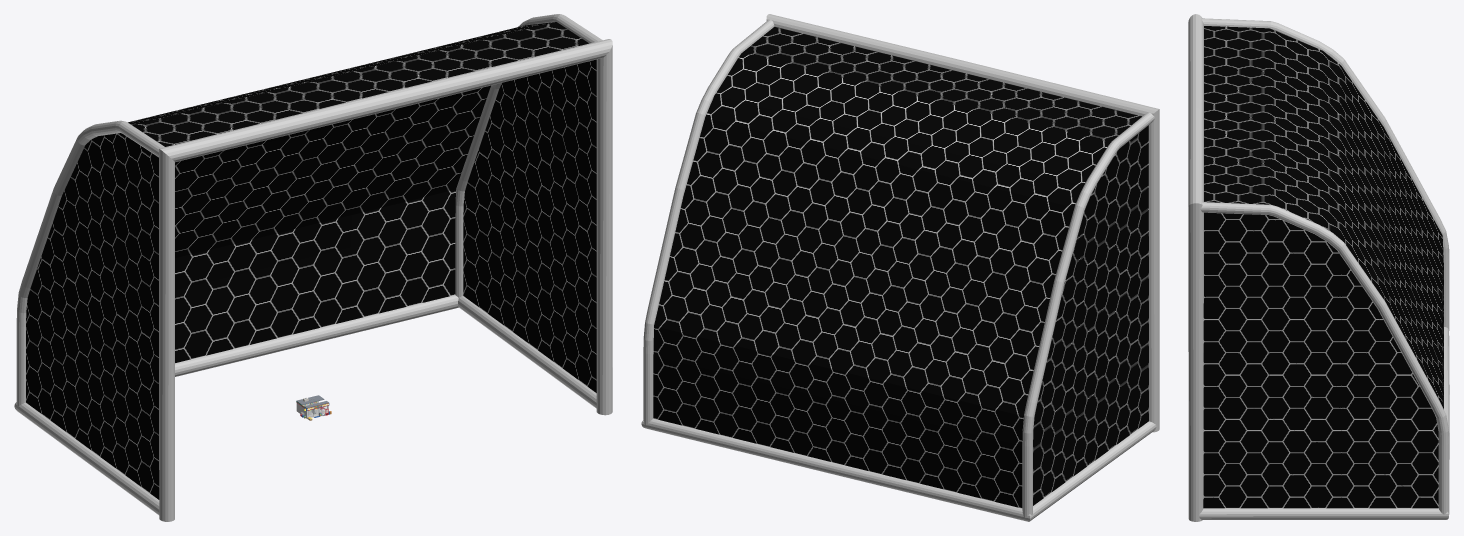
3 views of the same model, side by side, from view 1: azimuth 30°, elevation 25°; view 2: azimuth 150°, elevation 25°; view 3: azimuth 270°, elevation 25° (orthographic). The views are drawn at different scales.
Visible parts, largest first — view 1: soccer_goal; view 2: soccer_goal; view 3: soccer_goal.
Part boxes in pixels (<box>): soccer_goal: <box>14,14,612,521</box>; soccer_goal: <box>641,14,1159,521</box>; soccer_goal: <box>1188,14,1449,521</box>.
Size of the model in its own units: 152 by 120 by 88.98.
Materials: 28 (8 with a texture image).
